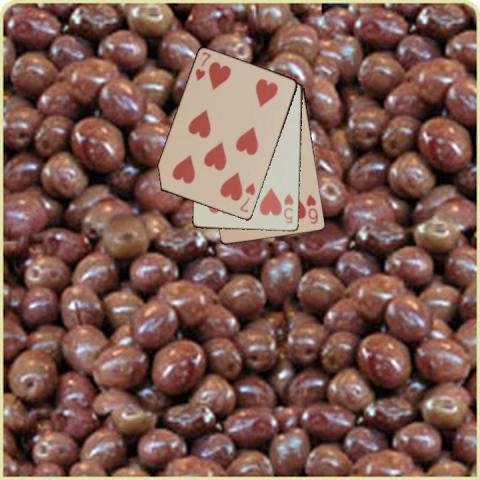5h: (282, 191, 296, 225)
6h: (303, 192, 320, 226)
7h: (236, 180, 256, 214), (193, 49, 212, 83)
